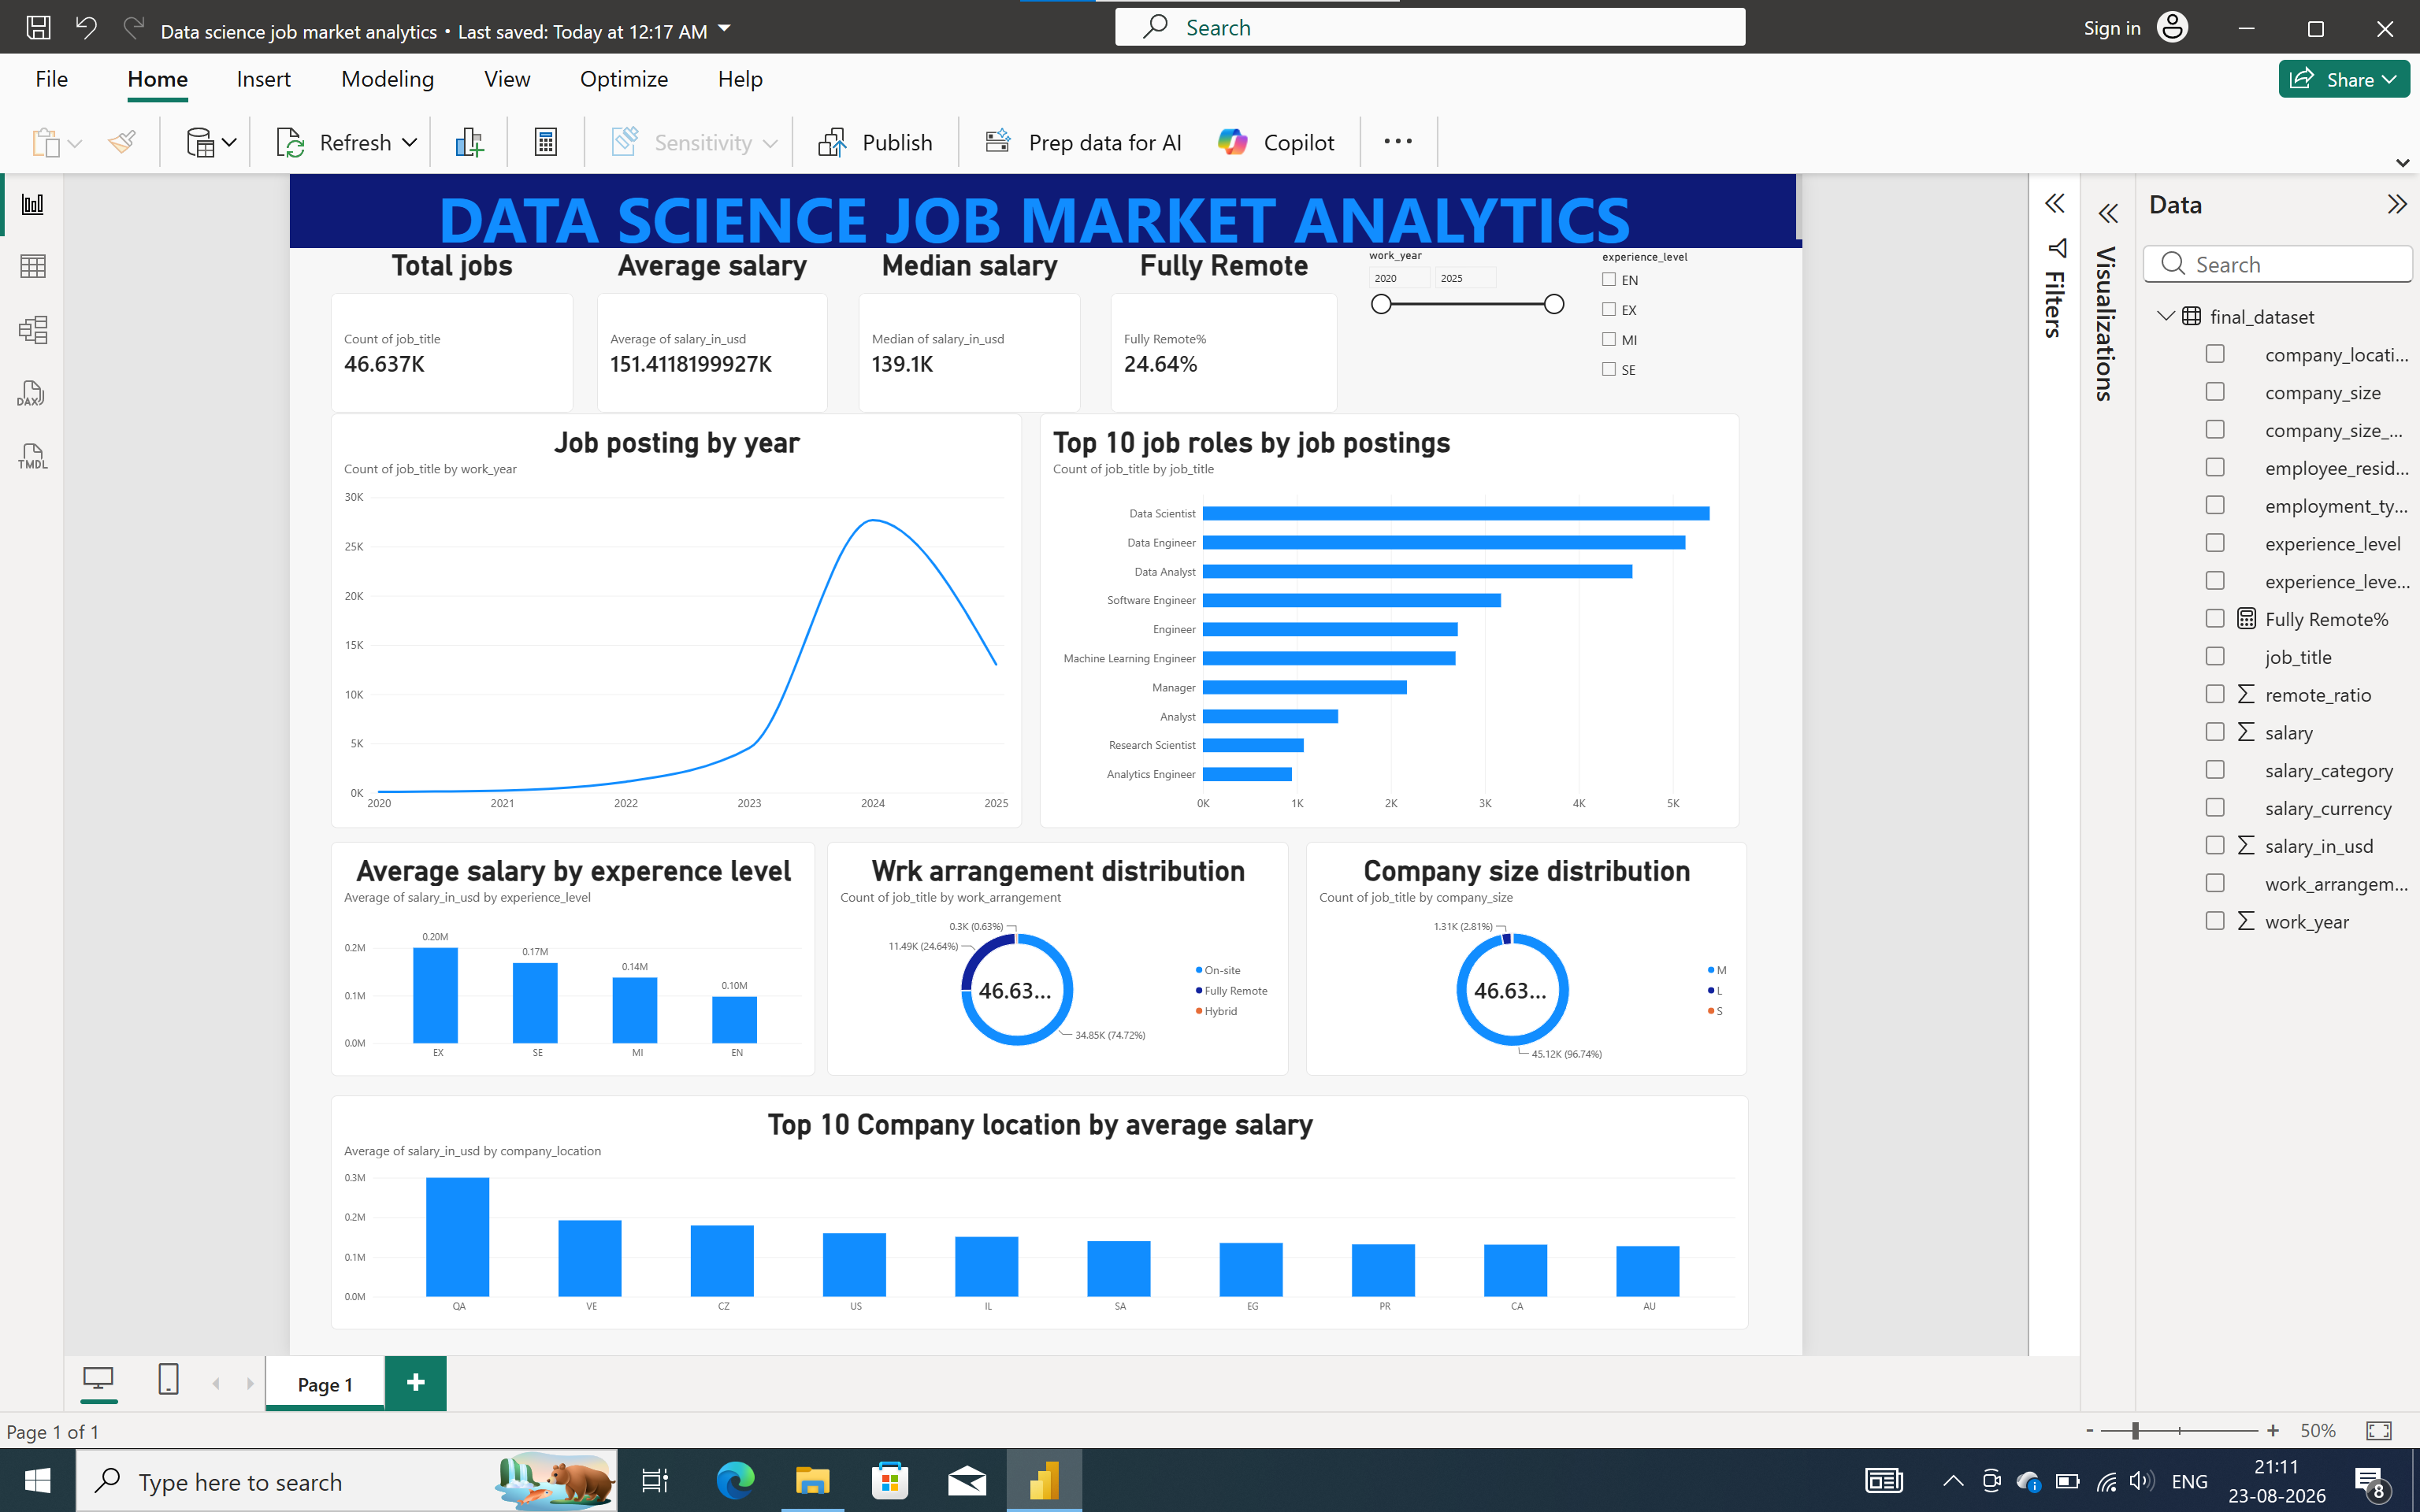

This screenshot's page, from the dashboard's own definition file:
{"tool":"powerbi","page":{"name":"Page 1","canvas":[1920,1500],"ordinal":0},"visuals":[{"type":"cardVisual","title":"Average salary","fields":{"Data":["Avg(final_dataset.salary_in_usd)"]},"box":[389.6,94.2,293.2,209.8],"z":1},{"type":"cardVisual","title":"Median salary","fields":{"Data":["Median(final_dataset.salary_in_usd)"]},"box":[721.3,94.2,282.5,209.8],"z":3},{"type":"cardVisual","title":"Fully Remote","fields":{"Data":["final_dataset.Fully Remote%"]},"box":[1042.4,94.2,289,209.8],"z":4},{"type":"lineChart","title":"Job posting by year ","fields":{"Category":["final_dataset.work_year"],"Y":["CountNonNull(final_dataset.job_title)"]},"box":[51.4,303.9,877.6,526.6],"z":5},{"type":"clusteredBarChart","title":"Top 10 job roles by job postings","fields":{"Category":["final_dataset.job_title"],"Y":["CountNonNull(final_dataset.job_title)"]},"box":[952.5,303.9,888.3,526.6],"z":6},{"type":"clusteredColumnChart","title":"Average salary by experence level ","fields":{"Category":["final_dataset.experience_level"],"Y":["Avg(final_dataset.salary_in_usd)"]},"box":[51.4,847.6,615.2,297.7],"z":7},{"type":"donutChart","title":"Wrk arrangement distribution","fields":{"Category":["final_dataset.work_arrangement"],"Y":["CountNonNull(final_dataset.job_title)"]},"box":[682.8,847.6,586,297],"z":8},{"type":"cardVisual","title":"Total jobs","fields":{"Data":["CountNonNull(final_dataset.job_title)"]},"box":[51.4,94.2,308.2,209.8],"z":9},{"type":"donutChart","title":"Company size distribution ","fields":{"Category":["final_dataset.company_size"],"Y":["CountNonNull(final_dataset.job_title)"]},"box":[1290.7,847.6,560,297],"z":10},{"type":"clusteredColumnChart","title":"Top 10 Company location by average  salary","fields":{"Category":["final_dataset.company_location"],"Y":["Avg(final_dataset.salary_in_usd)"]},"box":[51.4,1170.8,1800.1,297.5],"z":11},{"type":"textbox","box":[0,0,1920,94.2],"z":12},{"type":"slicer","fields":{"Values":["final_dataset.work_year"]},"box":[1362,94,259,209.8],"z":13},{"type":"slicer","fields":{"Values":["final_dataset.experience_level"]},"box":[1658,96,262,210],"z":14}]}

Visuals, with their boxes on the page's 1920x1500 design canvas (x1, y1, x2, y2). These are canvas units, not pixel positions in the 2420x1512 screenshot, which may show the page scaled, cropped or inside an application window:
"Average salary" cardVisual: left=390, top=94, right=683, bottom=304
"Median salary" cardVisual: left=721, top=94, right=1004, bottom=304
"Fully Remote" cardVisual: left=1042, top=94, right=1331, bottom=304
"Job posting by year " lineChart: left=51, top=304, right=929, bottom=830
"Top 10 job roles by job postings" clusteredBarChart: left=952, top=304, right=1841, bottom=830
"Average salary by experence level " clusteredColumnChart: left=51, top=848, right=667, bottom=1145
"Wrk arrangement distribution" donutChart: left=683, top=848, right=1269, bottom=1145
"Total jobs" cardVisual: left=51, top=94, right=360, bottom=304
"Company size distribution " donutChart: left=1291, top=848, right=1851, bottom=1145
"Top 10 Company location by average  salary" clusteredColumnChart: left=51, top=1171, right=1852, bottom=1468
textbox: left=0, top=0, right=1920, bottom=94
slicer - final_dataset.work_year: left=1362, top=94, right=1621, bottom=304
slicer - final_dataset.experience_level: left=1658, top=96, right=1920, bottom=306
